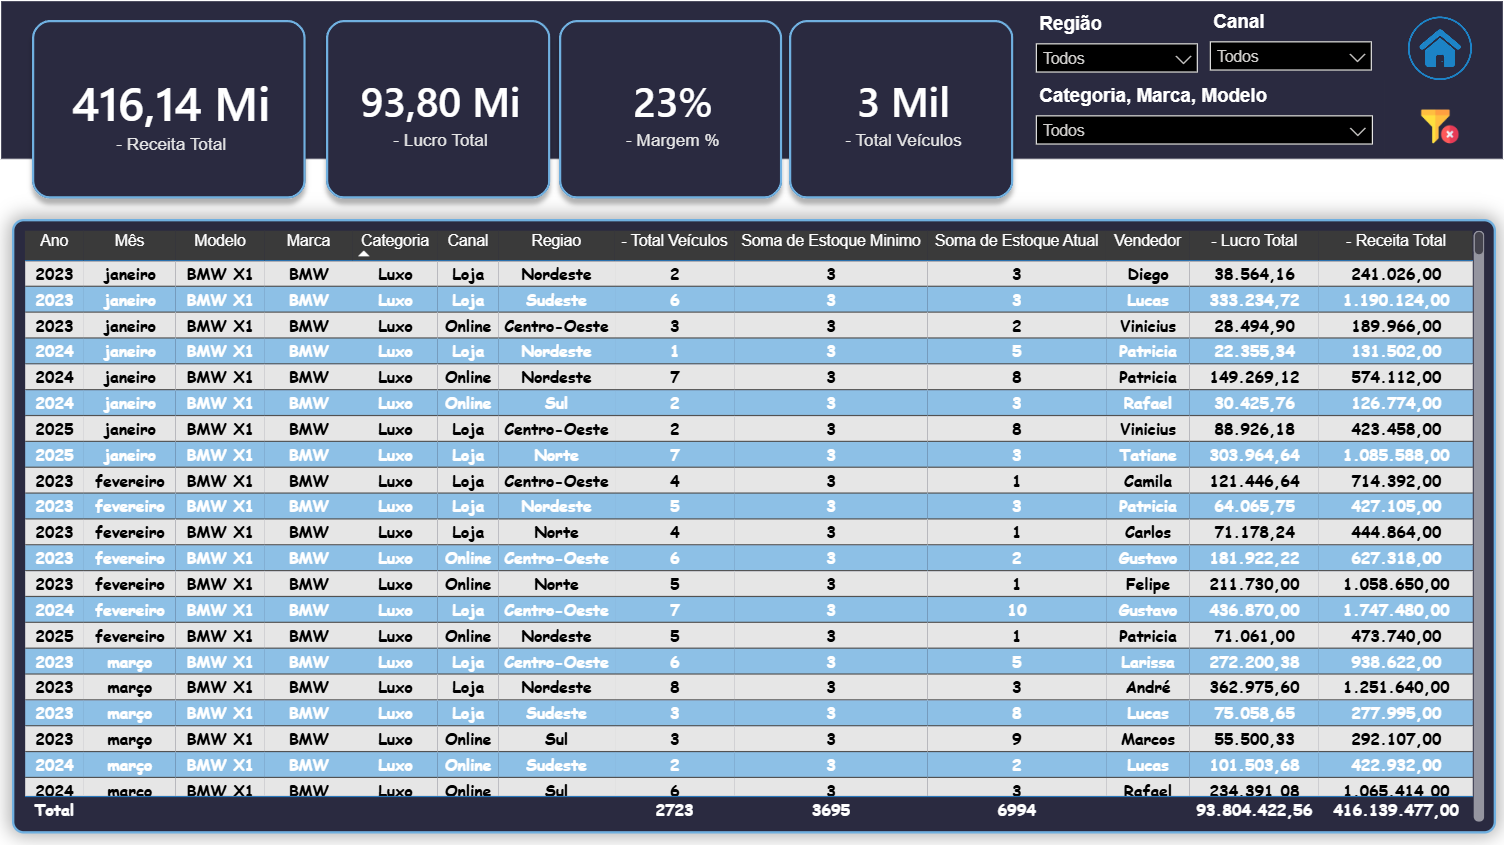

The page's visual inventory and layout, read from the dashboard file:
{"tool":"powerbi","page":{"name":"RELATÓRIO DETALHADO - CARROS VENDIDOS","canvas":[1280,720],"ordinal":1},"visuals":[{"type":"shape","box":[0,0,1280,136.1],"z":0},{"type":"cardVisual","fields":{"Data":["Base.Imp Margem %"]},"box":[458.3,0,224.7,186.2],"z":1000},{"type":"cardVisual","fields":{"Data":["Base.Imp Lucro Total"]},"box":[260.6,0,226,186.2],"z":2000},{"type":"cardVisual","title":"RECEITA ","fields":{"Data":["Base.Imp Receita Total"]},"box":[10.3,0,267,186.2],"z":3000},{"type":"cardVisual","fields":{"Data":["Base.Imp Total Veículos"]},"box":[654.8,0,226,186.2],"z":4000},{"type":"tableEx","title":"VEÍCULOS PARADOS (Marca)","fields":{"Values":["Base.Data.Variation.Hierarquia de datas.Ano","Base.Data.Variation.Hierarquia de datas.Mês","Base.Modelo","Base.Marca","Base.Categoria","Base.Canal","Base.Regiao","Base.Imp Total Veículos","Sum(Base.Estoque Minimo)","Sum(Base.Estoque Atual)","Base.Vendedor","Base.- Lucro Total"]},"box":[10.3,186.2,1263.3,522.5],"z":5000},{"type":"slicer","fields":{"Values":["Base.Regiao"]},"box":[871.3,6.6,158.2,63.7],"z":12000},{"type":"slicer","fields":{"Values":["Base.Categoria","Base.Marca","Base.Modelo"]},"box":[871.3,68.1,306.5,63.7],"z":13000},{"type":"image","box":[1188.4,6.5,75.8,68.4],"z":14000},{"type":"slicer","fields":{"Values":["Base.Canal"]},"box":[1019.6,5.5,158.2,63.7],"z":15000},{"type":"image","box":[1197.7,82.3,56.4,49.9],"z":16000}]}

Visuals, with their boxes in screenshot pixels (x1, y1, x2, y2), scaled from the page's 1280x720 canvas onto the 1504x845 screenshot:
shape: <bbox>0, 0, 1503, 160</bbox>
cardVisual - Base.Imp Margem %: <bbox>539, 0, 803, 219</bbox>
cardVisual - Base.Imp Lucro Total: <bbox>306, 0, 572, 219</bbox>
"RECEITA " cardVisual: <bbox>12, 0, 326, 219</bbox>
cardVisual - Base.Imp Total Veículos: <bbox>769, 0, 1035, 219</bbox>
"VEÍCULOS PARADOS (Marca)" tableEx: <bbox>12, 219, 1496, 832</bbox>
slicer - Base.Regiao: <bbox>1024, 8, 1210, 83</bbox>
slicer - Base.Categoria x Base.Marca: <bbox>1024, 80, 1384, 155</bbox>
image: <bbox>1396, 8, 1485, 88</bbox>
slicer - Base.Canal: <bbox>1198, 6, 1384, 81</bbox>
image: <bbox>1407, 97, 1474, 155</bbox>
